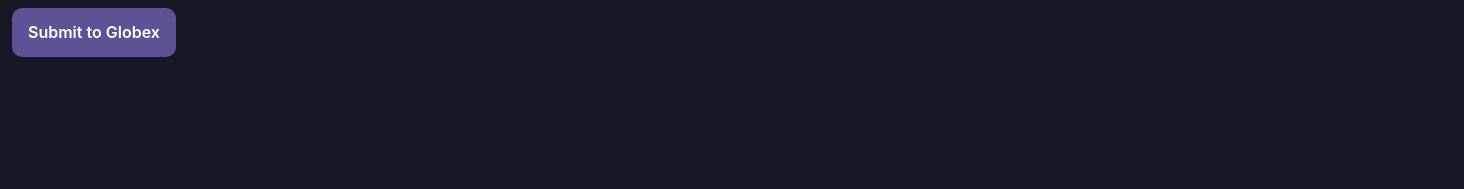
Test: StaffingSubmitToClient on an agency posting › submits to the job’s client and links the project role
This screenshot has width=1464, height=189.
Click the button "Submit to Globex". click: (94, 32)
box: [12,8,176,57]
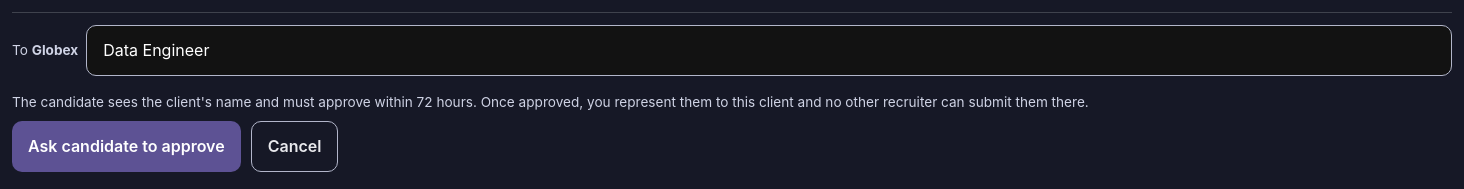
Click the button "Ask candidate to approve". click: (126, 146)
box: [12,121,241,172]
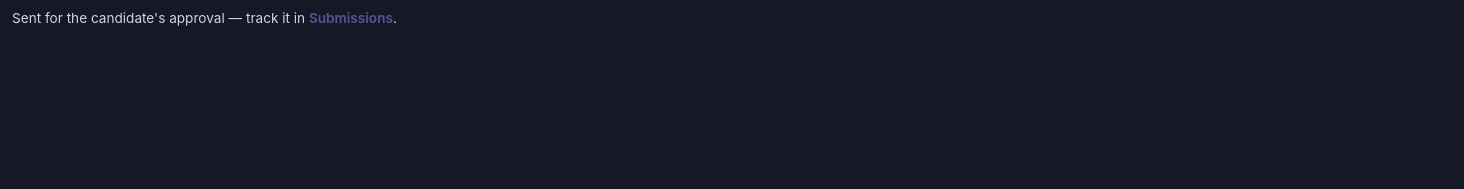
Check: the text "Sent for the candidate" is shown, box [12,10,309,26]
